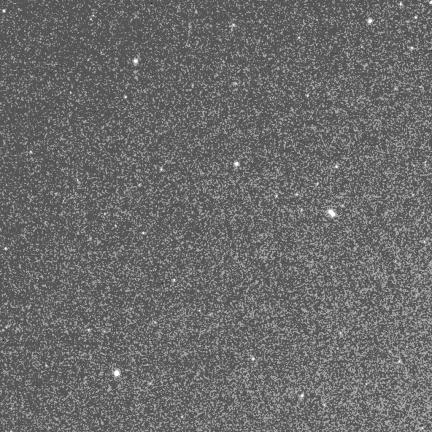blob: (328, 210, 336, 218), (114, 370, 120, 376), (368, 18, 373, 24), (234, 162, 239, 167), (134, 59, 138, 64), (410, 47, 414, 51), (415, 16, 419, 20), (124, 95, 128, 99), (398, 360, 402, 364), (142, 232, 146, 235), (181, 415, 184, 419), (296, 193, 299, 197), (252, 357, 255, 361), (30, 151, 33, 155), (276, 195, 279, 199), (3, 9, 6, 13), (301, 393, 304, 397), (316, 182, 319, 186), (70, 92, 73, 95), (306, 94, 309, 97), (115, 225, 118, 228), (173, 279, 176, 282), (4, 247, 7, 250)
